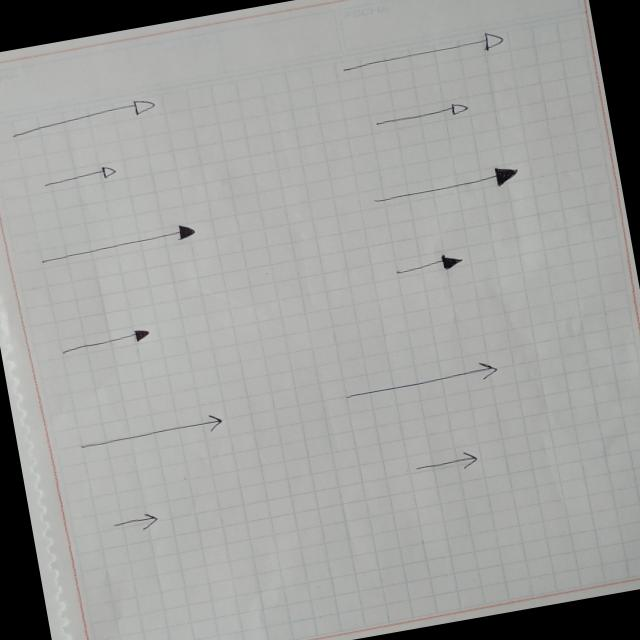arrow_line_right: (337, 28, 506, 78), (340, 356, 500, 408), (36, 219, 200, 268), (370, 163, 524, 211), (8, 94, 160, 142), (76, 408, 227, 456), (370, 96, 472, 132), (58, 323, 154, 358), (409, 446, 482, 478), (40, 162, 119, 191), (391, 250, 464, 280), (107, 509, 158, 536)
